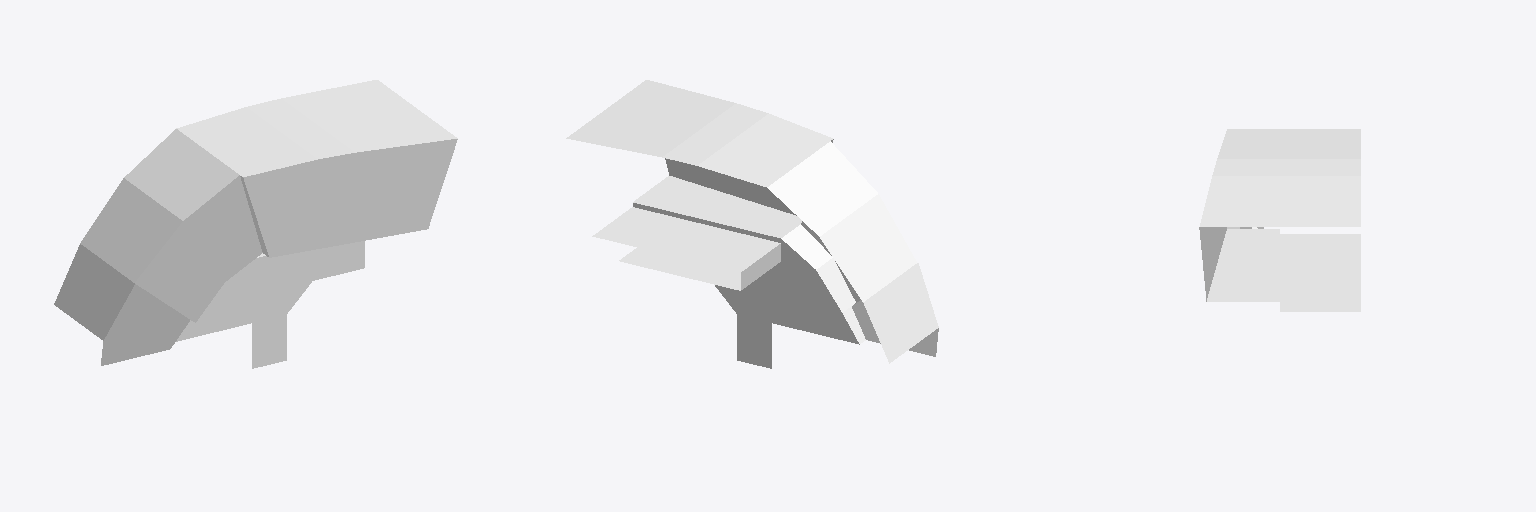
The picture shows the model from 3 angles: view 1: azimuth 30°, elevation 25°; view 2: azimuth 150°, elevation 25°; view 3: azimuth 270°, elevation 25°; orthographic projection.
Parts seen in each view (by area): view 1: pepe; view 2: pepe; view 3: pepe.
Part boxes in pixels (bbox=[...]): pepe: bbox=[54, 80, 457, 368]; pepe: bbox=[566, 80, 938, 368]; pepe: bbox=[1199, 129, 1360, 311].
Bounding box in the file's own units: 18.5 × 12.25 × 8.